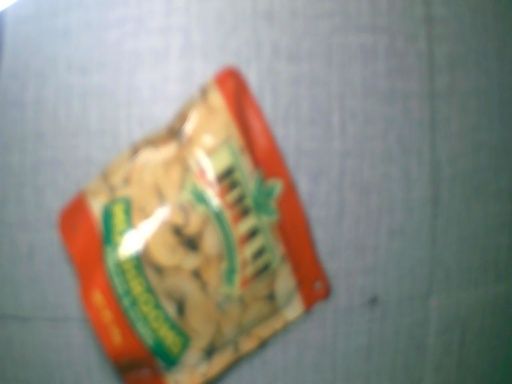plastic: (59, 69, 324, 384)
